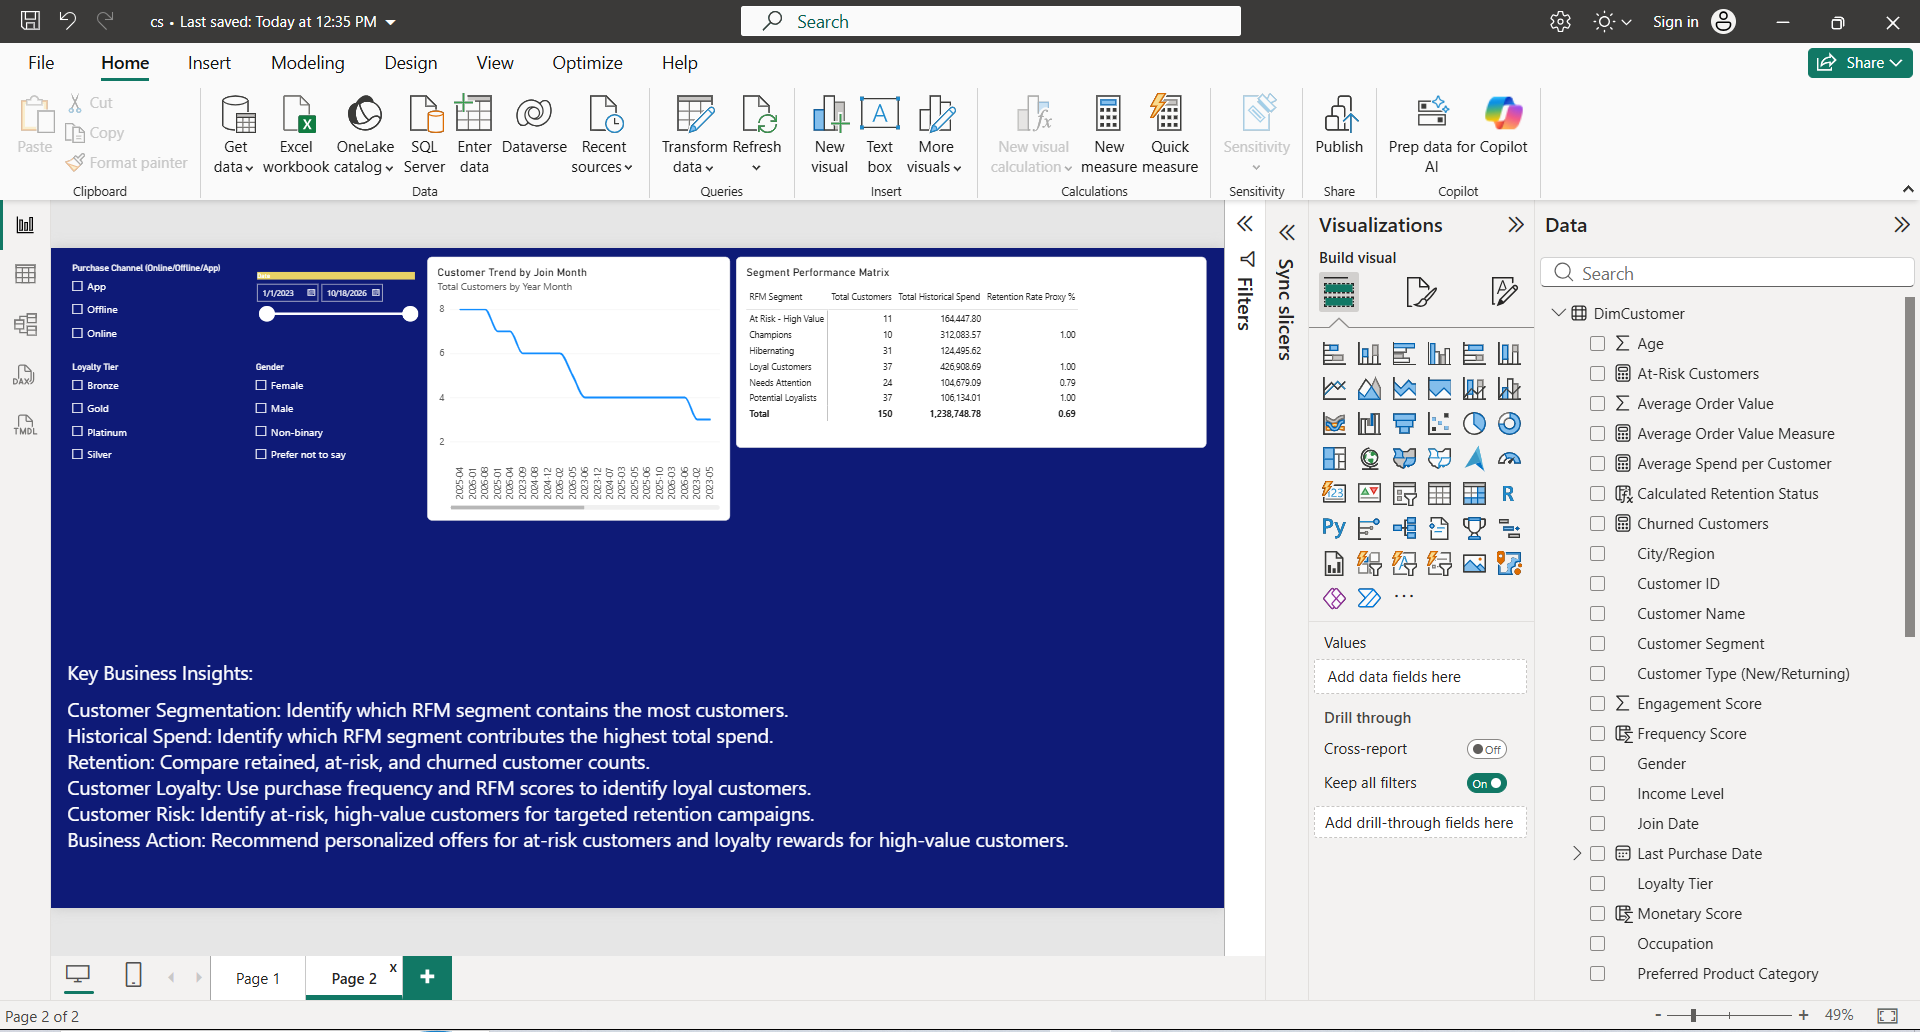

Layout of this report page (visuals, bound fields, positions):
{"tool":"powerbi","page":{"name":"Page 2","canvas":[1920,1080],"ordinal":1},"visuals":[{"type":"slicer","fields":{"Values":["DimCustomer.Purchase Channel (Online/Offline/App)"]},"box":[26.2,23.9,281.5,133.6],"z":0},{"type":"slicer","fields":{"Values":["DimCustomer.Loyalty Tier"]},"box":[26.2,186.1,280,280],"z":1},{"type":"slicer","fields":{"Values":["DimCustomer.Gender"]},"box":[326.8,186.1,280,280],"z":2},{"type":"slicer","fields":{"Values":["DimDate.Date"]},"box":[329.2,38.2,274.4,105],"z":3},{"type":"lineChart","title":"Customer Trend by Join Month","fields":{"Category":["DimDate.Year Month"],"Y":["DimCustomer.Total Customers"]},"box":[615.5,14.3,496.2,431.8],"z":4},{"type":"pivotTable","title":"Segment Performance Matrix","fields":{"Rows":["DimCustomer.RFM Segment"],"Values":["DimCustomer.Total Customers","DimCustomer.Total Historical Spend","DimCustomer.Retention Rate Proxy %"]},"box":[1121.3,14.3,770.6,312.5],"z":5},{"type":"textbox","box":[26.2,672.8,1703.4,372.2],"z":6}]}

Visuals, with their boxes on the page's 1920x1080 design canvas (x1, y1, x2, y2). These are canvas units, not pixel positions in the 1920x1032 screenshot, which may show the page scaled, cropped or inside an application window:
slicer - DimCustomer.Purchase Channel (Online/Offline/App): <box>26,24,308,158</box>
slicer - DimCustomer.Loyalty Tier: <box>26,186,306,466</box>
slicer - DimCustomer.Gender: <box>327,186,607,466</box>
slicer - DimDate.Date: <box>329,38,604,143</box>
"Customer Trend by Join Month" lineChart: <box>616,14,1112,446</box>
"Segment Performance Matrix" pivotTable: <box>1121,14,1892,327</box>
textbox: <box>26,673,1730,1045</box>
